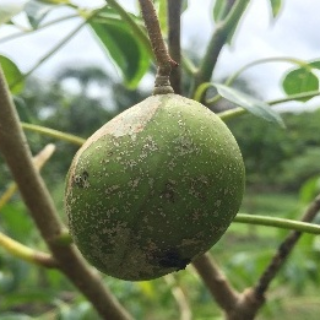coc: (64, 96, 244, 281)
